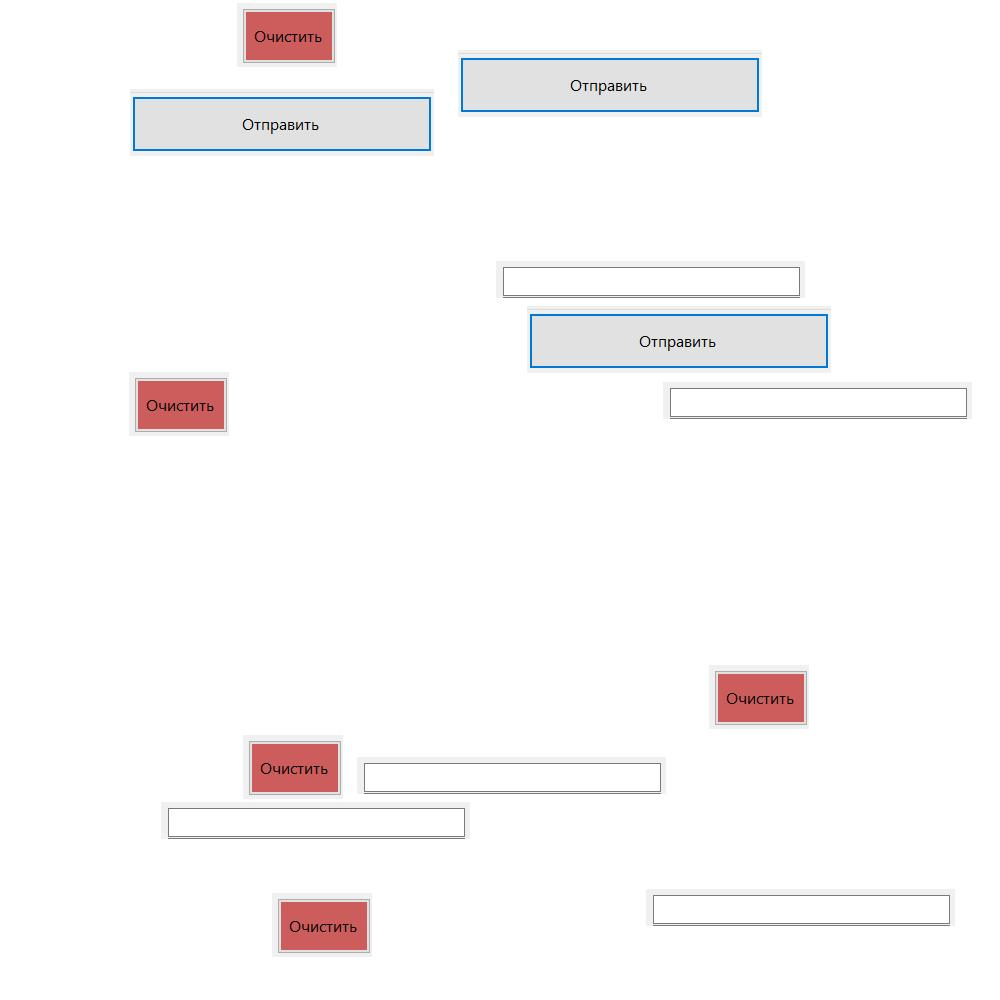Button: (527, 306, 831, 373), (458, 50, 762, 117), (130, 89, 434, 156), (129, 372, 229, 436), (243, 735, 343, 799), (709, 665, 809, 729), (237, 3, 337, 67), (272, 893, 372, 957)
EditText-: (161, 802, 470, 839), (663, 382, 972, 419), (496, 261, 805, 298), (646, 889, 955, 926), (357, 757, 666, 794)
